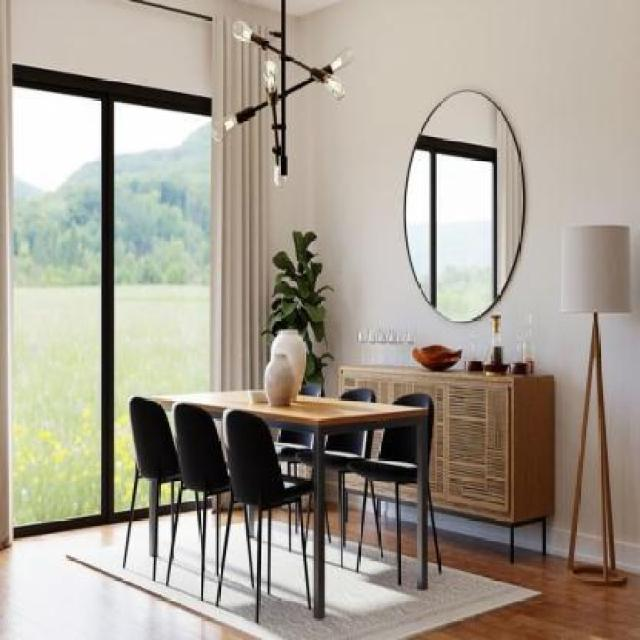tables: (146, 388, 431, 620)
